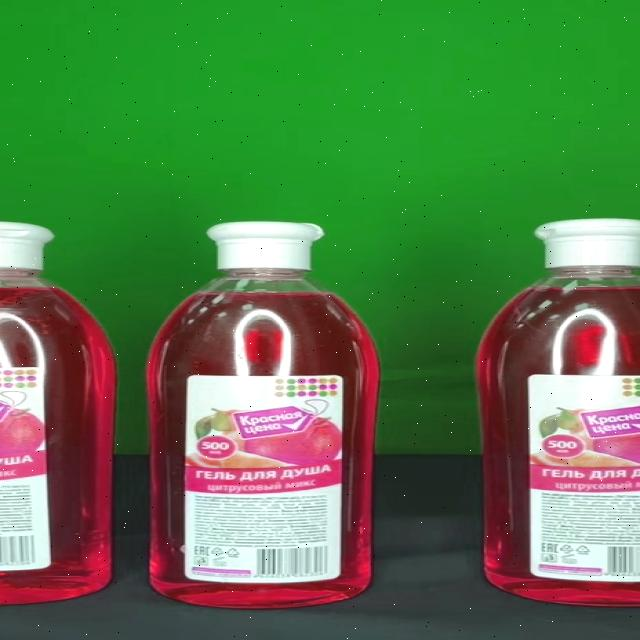Bottle: (146, 221, 378, 608)
Cap: (206, 222, 325, 270)
